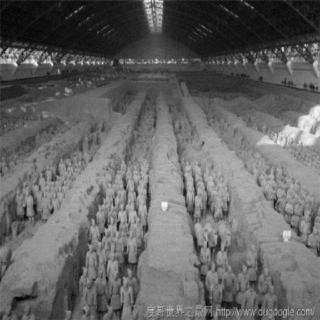other: (254, 86, 320, 152)
